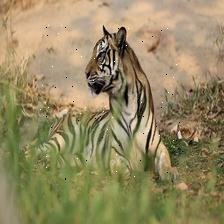tiger: (39, 23, 186, 183)
